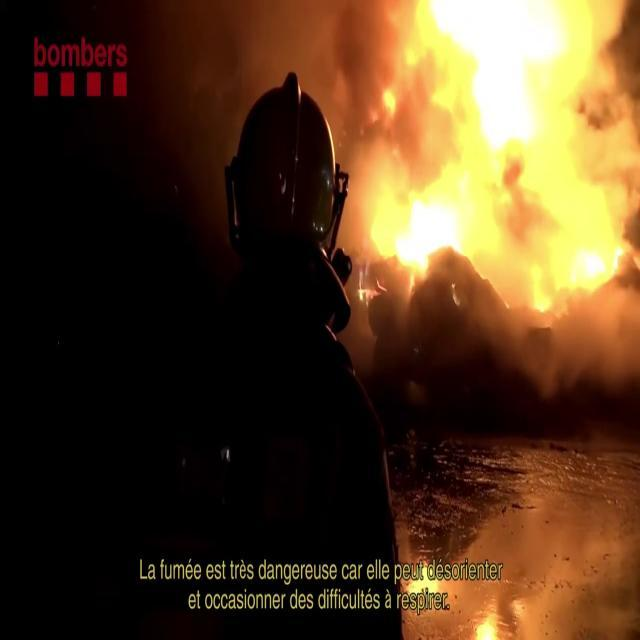Fire: (371, 0, 640, 331)
Smoke: (144, 0, 396, 224)
